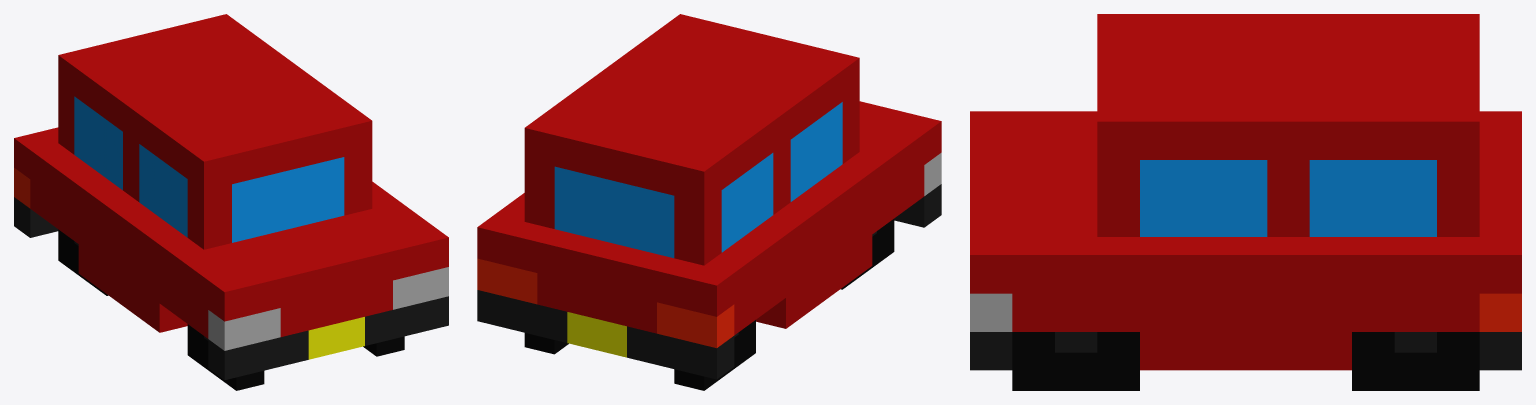
Rendered from Car_red.obj.
3 views of the same model, side by side, from view 1: azimuth 30°, elevation 25°; view 2: azimuth 150°, elevation 25°; view 3: azimuth 270°, elevation 25° (orthographic). The views are drawn at different scales.
Parts seen in each view (by area): view 1: 立方体.013; view 2: 立方体.013; view 3: 立方体.013.
Boxes of the visible parts, x1,y1,x2,y2 form: 立方体.013: (14,14,448,390); 立方体.013: (477,14,941,390); 立方体.013: (970,14,1521,390).
Bounding box in the file's own units: 8 × 7 × 13.
